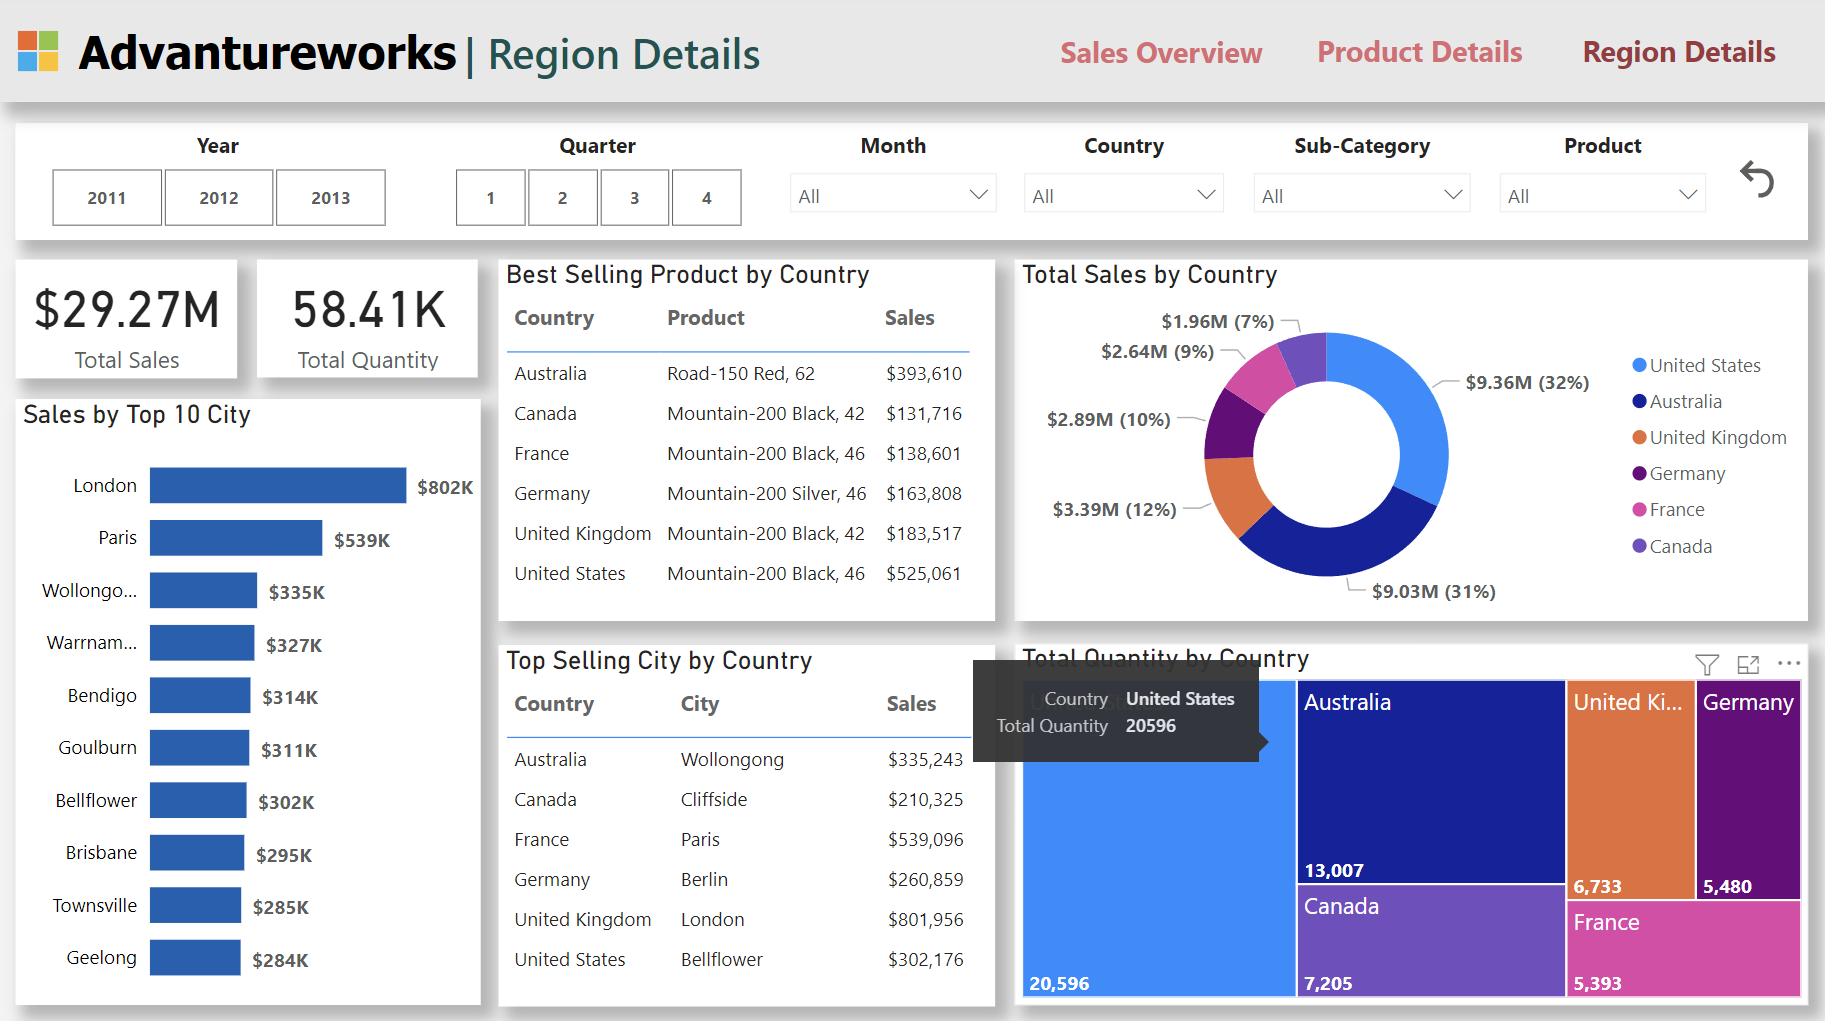

Layout of this report page (visuals, bound fields, positions):
{"tool":"powerbi","page":{"name":"Region Details","canvas":[1280,720],"ordinal":2},"visuals":[{"type":"shape","box":[11.6,86.2,1256.1,82],"z":0},{"type":"card","fields":{"Values":["FactInternetSales.InternetTotalSales"]},"box":[11.6,181.8,155.6,83],"z":1000},{"type":"card","fields":{"Values":["FactInternetSales.InternetTotalUnits"]},"box":[181,182.1,154.8,82.9],"z":2000},{"type":"slicer","title":"Quarter","fields":{"Values":["DimDate.CalendarQuarter"]},"box":[294.4,91.1,250,73.3],"z":3000},{"type":"slicer","title":"Year","fields":{"Values":["DimDate.CalendarYear"]},"box":[11.1,91.1,283.3,73.3],"z":4000},{"type":"clusteredBarChart","title":"Sales by Top 10 City","fields":{"Y":["FactInternetSales.InternetTotalSales"],"Category":["DimGeography.City"]},"box":[11.6,279.6,325.8,424.6],"z":5000},{"type":"slicer","title":"Sub-Category","fields":{"Values":["DimProductSubcategory.EnglishProductSubcategoryName"]},"box":[868.9,91.1,172.2,74.4],"z":6000},{"type":"slicer","title":"Month","fields":{"Values":["DimDate.EnglishMonthName"]},"box":[544.4,91.1,164.4,74.4],"z":7000},{"type":"slicer","title":"Country","fields":{"Values":["DimSalesTerritory.SalesTerritoryCountry"]},"box":[708.9,91.1,160,74.4],"z":8000},{"type":"slicer","title":"Product","fields":{"Values":["DimProduct.Category.Product"]},"box":[1041.1,91.1,164.4,74.4],"z":9000},{"type":"actionButton","box":[1214,105.1,35.7,39.9],"z":10000},{"type":"shape","box":[0,0,1280,71.1],"z":11000},{"type":"image","box":[0,8.4,54.7,54.7],"z":12000},{"type":"shape","box":[55.7,0,270.1,71.5],"z":13000},{"type":"shape","box":[325.8,0,252.3,71.5],"z":14000},{"type":"actionButton","box":[728.4,0,172.4,71.5],"z":15000},{"type":"actionButton","box":[900.7,0,189.6,71.1],"z":16000},{"type":"actionButton","box":[1090.4,0,174.5,71.1],"z":17000},{"type":"donutChart","fields":{"Category":["DimSalesTerritory.SalesTerritoryCountry"],"Y":["FactInternetSales.InternetTotalSales"]},"box":[712,181.8,556,253.3],"z":18000},{"type":"tableEx","title":"Best Selling Product by Country","fields":{"Values":["DimSalesTerritory.SalesTerritoryCountry","DimProduct.EnglishProductName","DimProduct.BestSellingProduct"]},"box":[350,182.1,348,253.2],"z":19000},{"type":"tableEx","title":"Top Selling City by Country","fields":{"Values":["DimSalesTerritory.SalesTerritoryCountry","DimGeography.City","DimProduct.BestSellingCity"]},"box":[350,451.4,348,253.2],"z":20000},{"type":"treemap","fields":{"Group":["DimSalesTerritory.SalesTerritoryCountry"],"Values":["FactInternetSales.InternetTotalUnits"]},"box":[712,451,556,253],"z":21000}]}

Visuals, with their boxes in screenshot pixels (x1, y1, x2, y2), scaled from the page's 1280x720 canvas onto the 1825x1021 screenshot:
shape: box(17, 122, 1807, 239)
card - FactInternetSales.InternetTotalSales: box(17, 258, 238, 376)
card - FactInternetSales.InternetTotalUnits: box(258, 258, 479, 376)
"Quarter" slicer: box(420, 129, 776, 233)
"Year" slicer: box(16, 129, 420, 233)
"Sales by Top 10 City" clusteredBarChart: box(17, 396, 481, 999)
"Sub-Category" slicer: box(1239, 129, 1484, 235)
"Month" slicer: box(776, 129, 1011, 235)
"Country" slicer: box(1011, 129, 1239, 235)
"Product" slicer: box(1484, 129, 1719, 235)
actionButton: box(1731, 149, 1782, 206)
shape: box(0, 0, 1824, 101)
image: box(0, 12, 78, 89)
shape: box(79, 0, 465, 101)
shape: box(465, 0, 824, 101)
actionButton: box(1039, 0, 1284, 101)
actionButton: box(1284, 0, 1555, 101)
actionButton: box(1555, 0, 1803, 101)
donutChart - DimSalesTerritory.SalesTerritoryCountry x FactInternetSales.InternetTotalSales: box(1015, 258, 1808, 617)
"Best Selling Product by Country" tableEx: box(499, 258, 995, 617)
"Top Selling City by Country" tableEx: box(499, 640, 995, 999)
treemap - DimSalesTerritory.SalesTerritoryCountry x FactInternetSales.InternetTotalUnits: box(1015, 640, 1808, 998)
